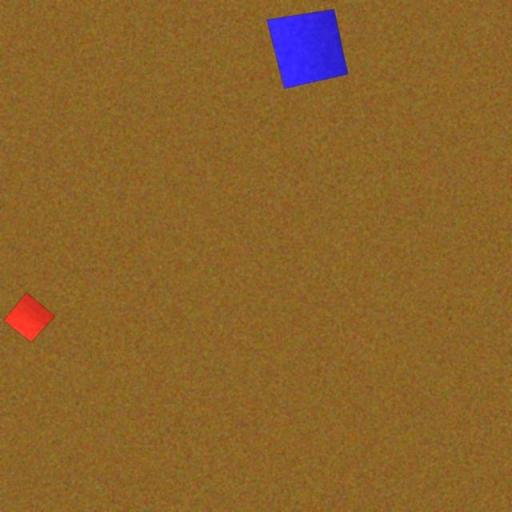BLUE_SQUARE: (266, 8, 349, 90)
RED_SQUARE: (2, 291, 56, 343)
